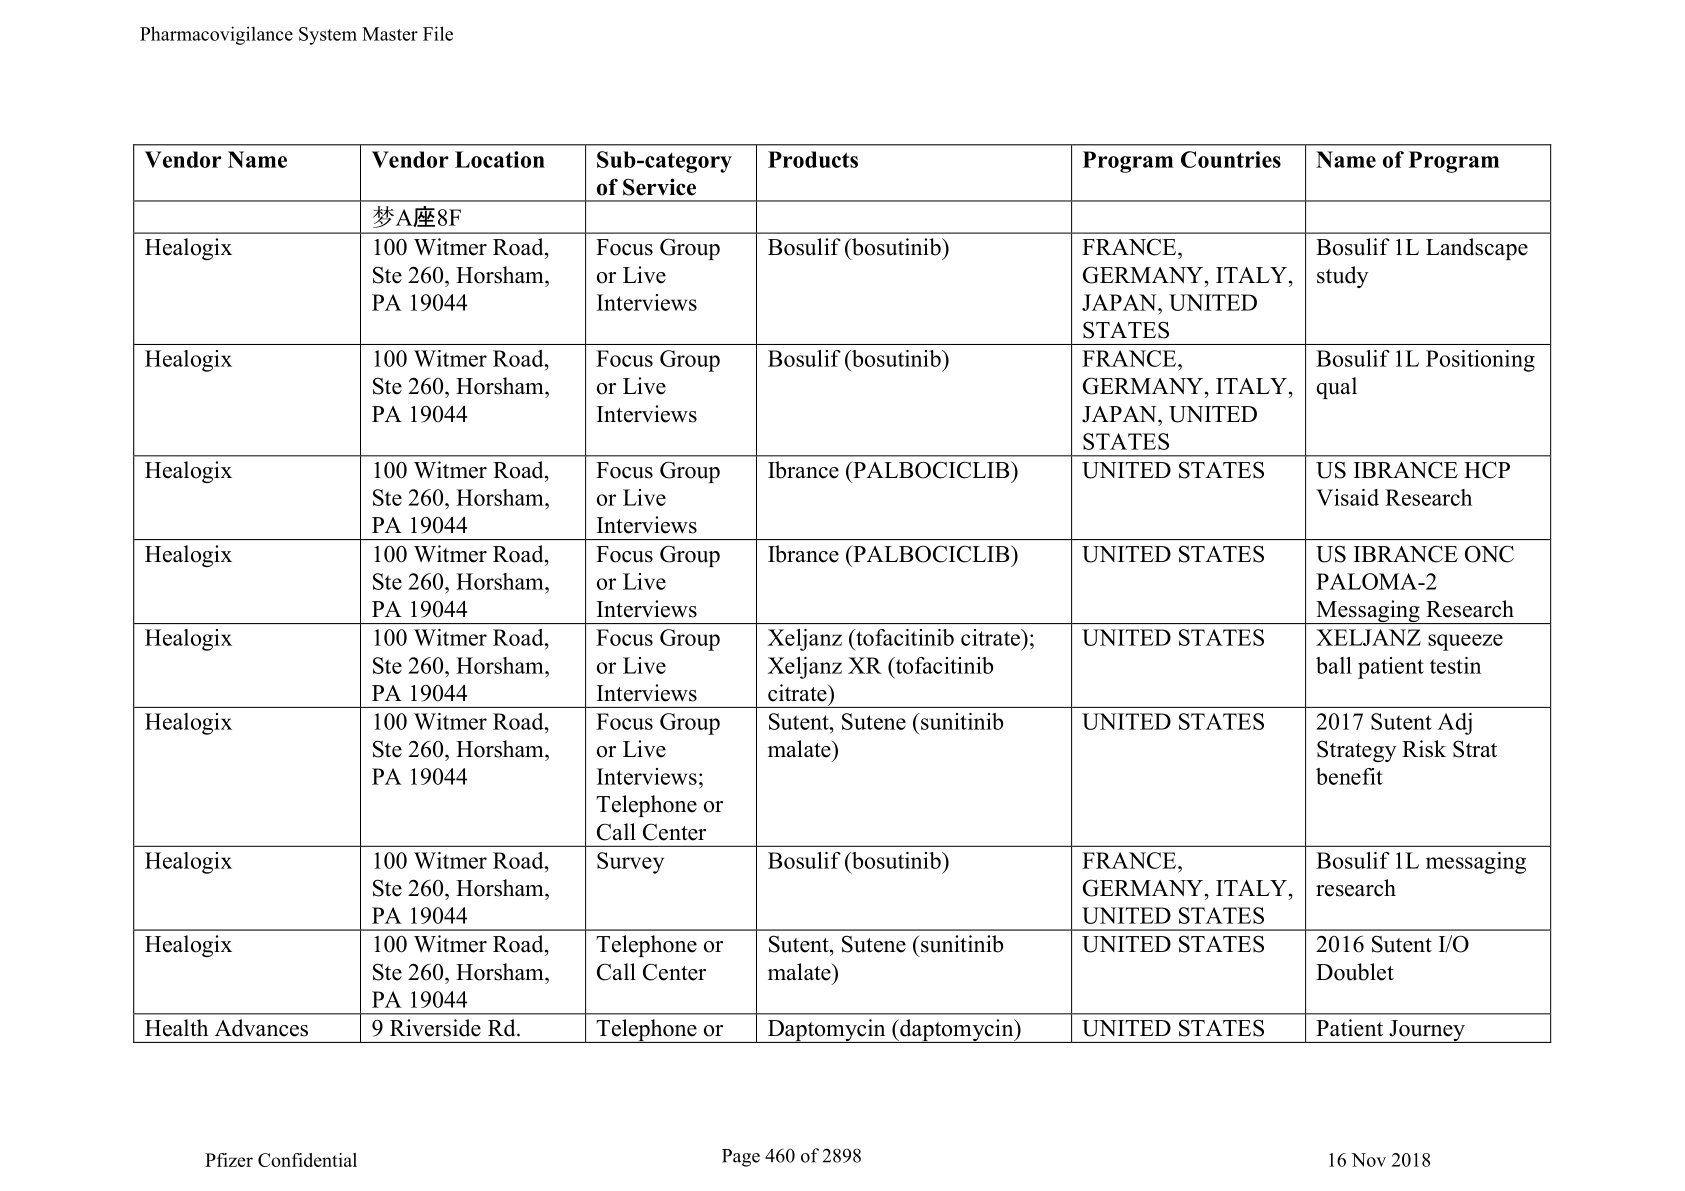full_lined: (131, 143, 1552, 1044)
